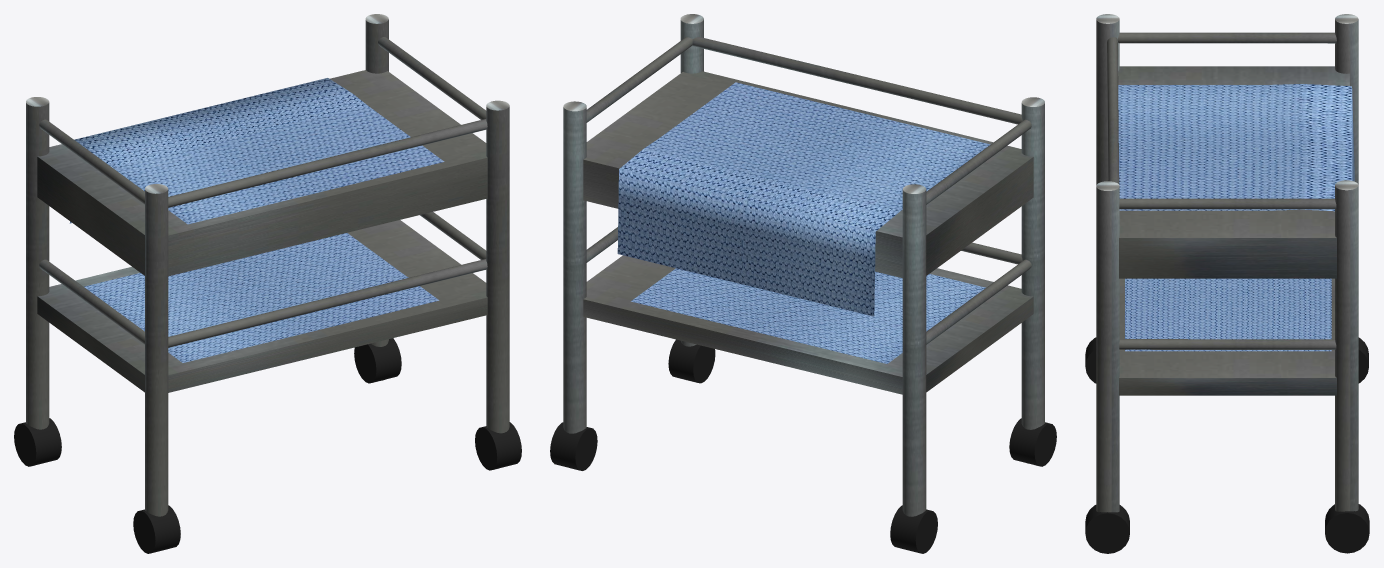
The model's file is 6awla1.fbx.
The picture shows the model from 3 angles, left to right: view 1: azimuth 30°, elevation 25°; view 2: azimuth 150°, elevation 25°; view 3: azimuth 270°, elevation 25°; orthographic projection.
Visible parts, largest first — view 1: pPlane2; view 2: pPlane2; view 3: pPlane2.
Boxes of the visible parts, x1=… form: pPlane2: x1=14, y1=14, x2=521, y2=553; pPlane2: x1=550, y1=14, x2=1056, y2=553; pPlane2: x1=1085, y1=14, x2=1369, y2=553.
Size of the model in its own units: 6.91 by 6.49 by 4.62.
